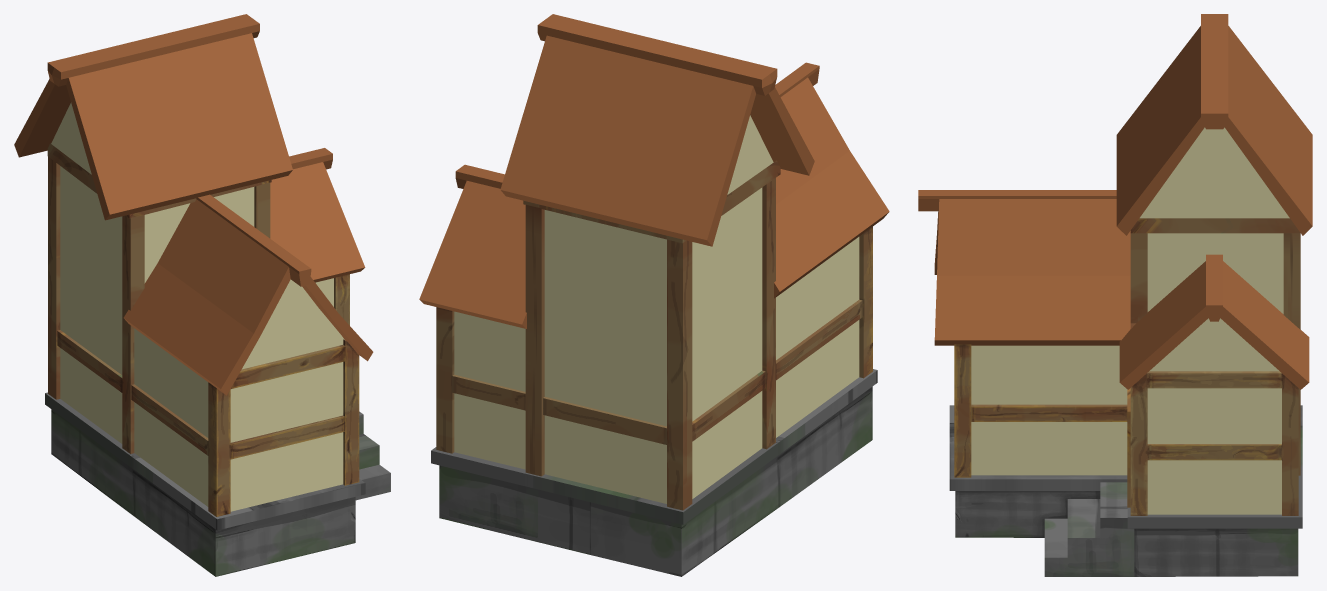
The model's file is Taverna.fbx.
3 renders of one model, left to right at view 1: azimuth 30°, elevation 25°; view 2: azimuth 150°, elevation 25°; view 3: azimuth 270°, elevation 25°, orthographic. The views are drawn at different scales.
Visible parts, largest first — view 1: Cube.029; view 2: Cube.029; view 3: Cube.029.
Part boxes in pixels (<box>): Cube.029: <box>14,14,390,576</box>; Cube.029: <box>419,14,889,576</box>; Cube.029: <box>918,14,1312,576</box>.
Bounding box in the file's own units: 998 × 830 × 1218.
Materials: 4 (2 with a texture image).
